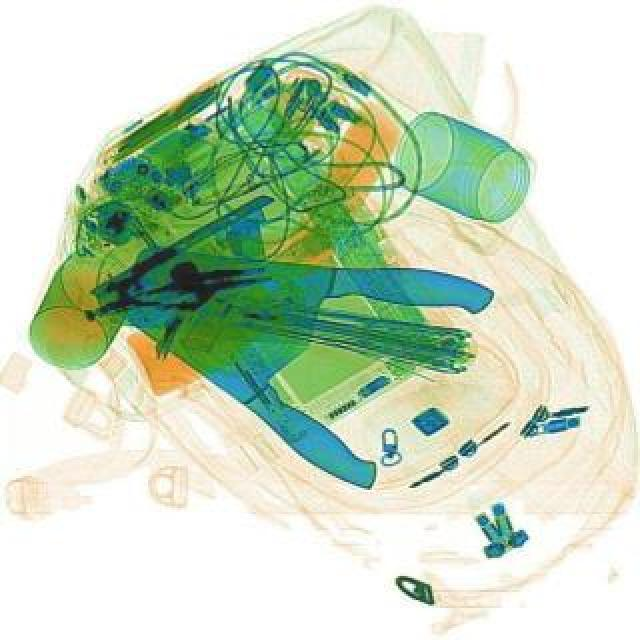knife: (96, 226, 424, 502), (118, 242, 494, 366)
